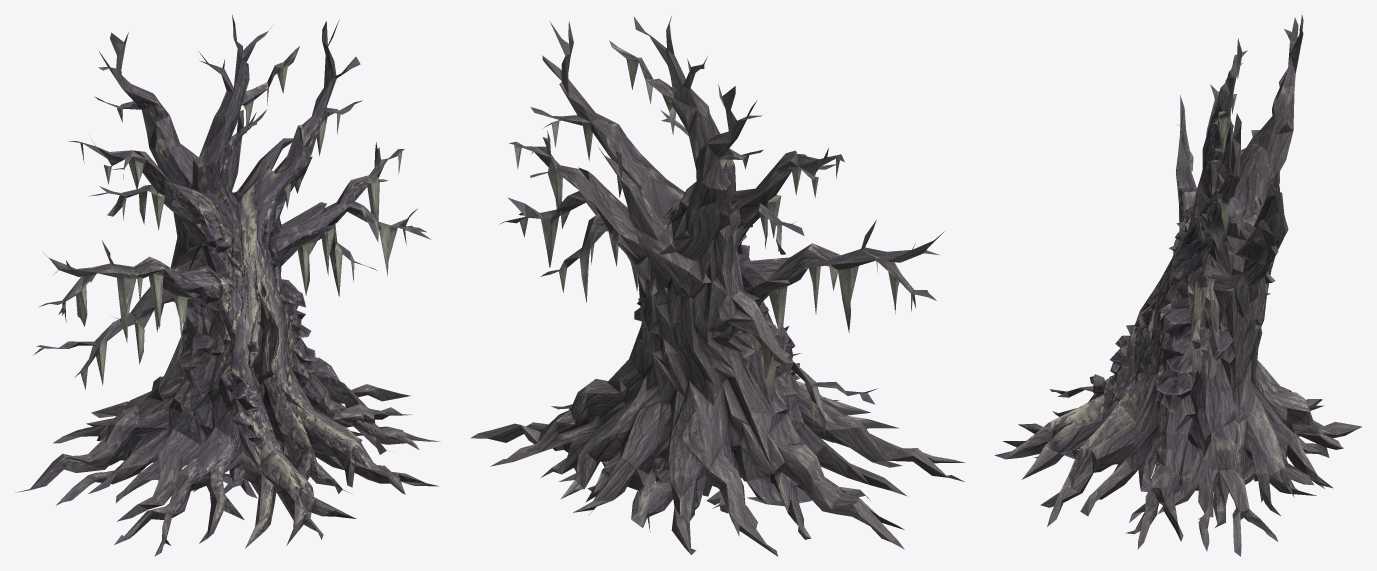
The model's file is Arbre centre de villaage.glb.
3 views of the same model, side by side, from view 1: azimuth 30°, elevation 25°; view 2: azimuth 150°, elevation 25°; view 3: azimuth 270°, elevation 25° (orthographic). The views are drawn at different scales.
Parts seen in each view (by area): view 1: Mesh_0; view 2: Mesh_0; view 3: Mesh_0.
Boxes of the visible parts, bbox=[...] form: Mesh_0: bbox=[15, 15, 440, 556]; Mesh_0: bbox=[470, 16, 964, 556]; Mesh_0: bbox=[994, 15, 1361, 556].
Bounding box in the file's own units: 1.84 × 1.9 × 1.46.
Materials: 1 (1 with a texture image).
